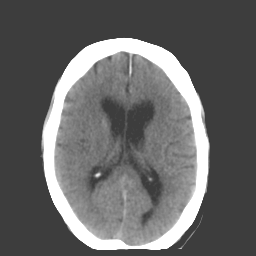ischemic: (52, 131, 90, 227)
